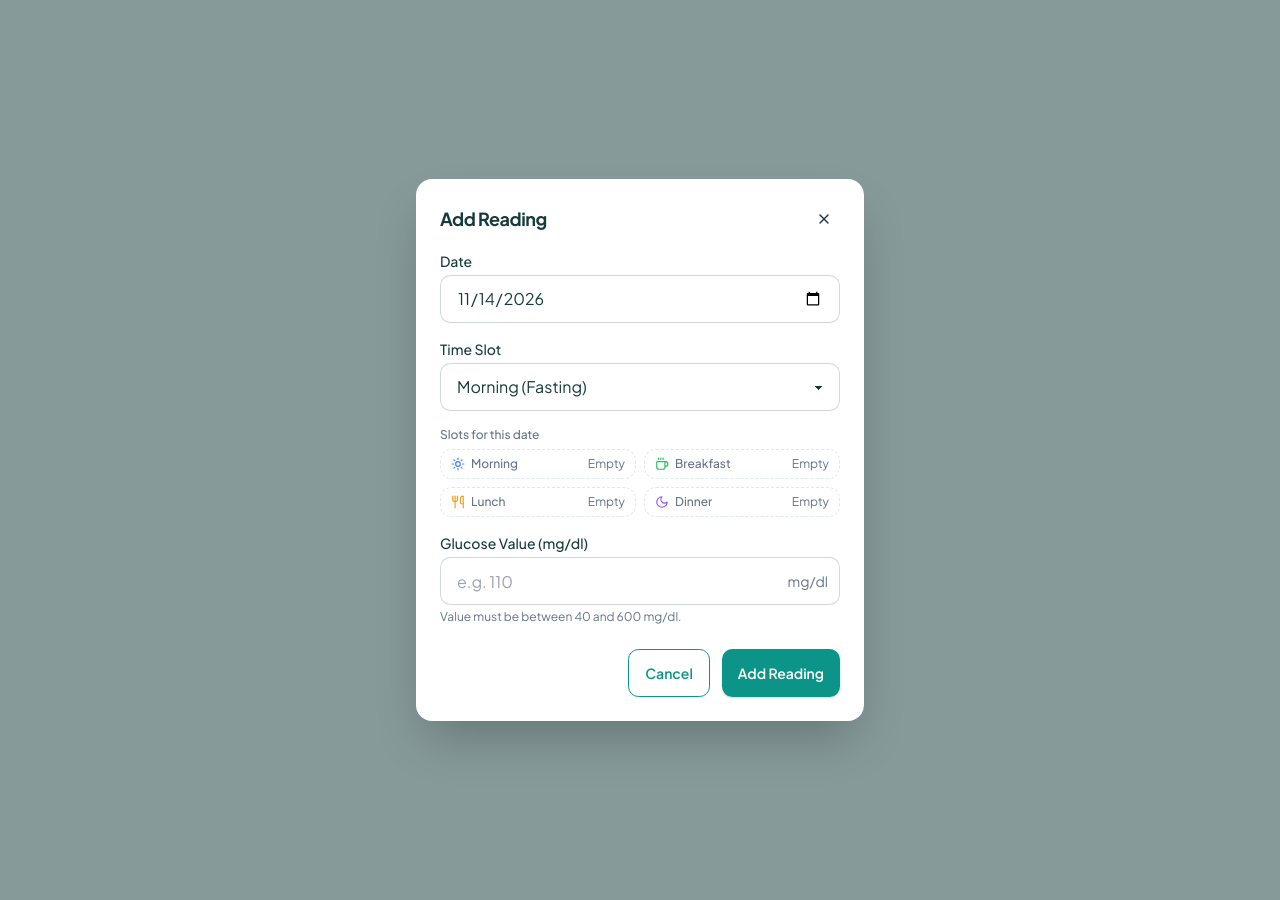
ReadingFormModal › rejects invalid value 39
Type "39" into the number field labelled "Glucose Value (mg/dl)" at (640, 581), box [440,557,840,605]
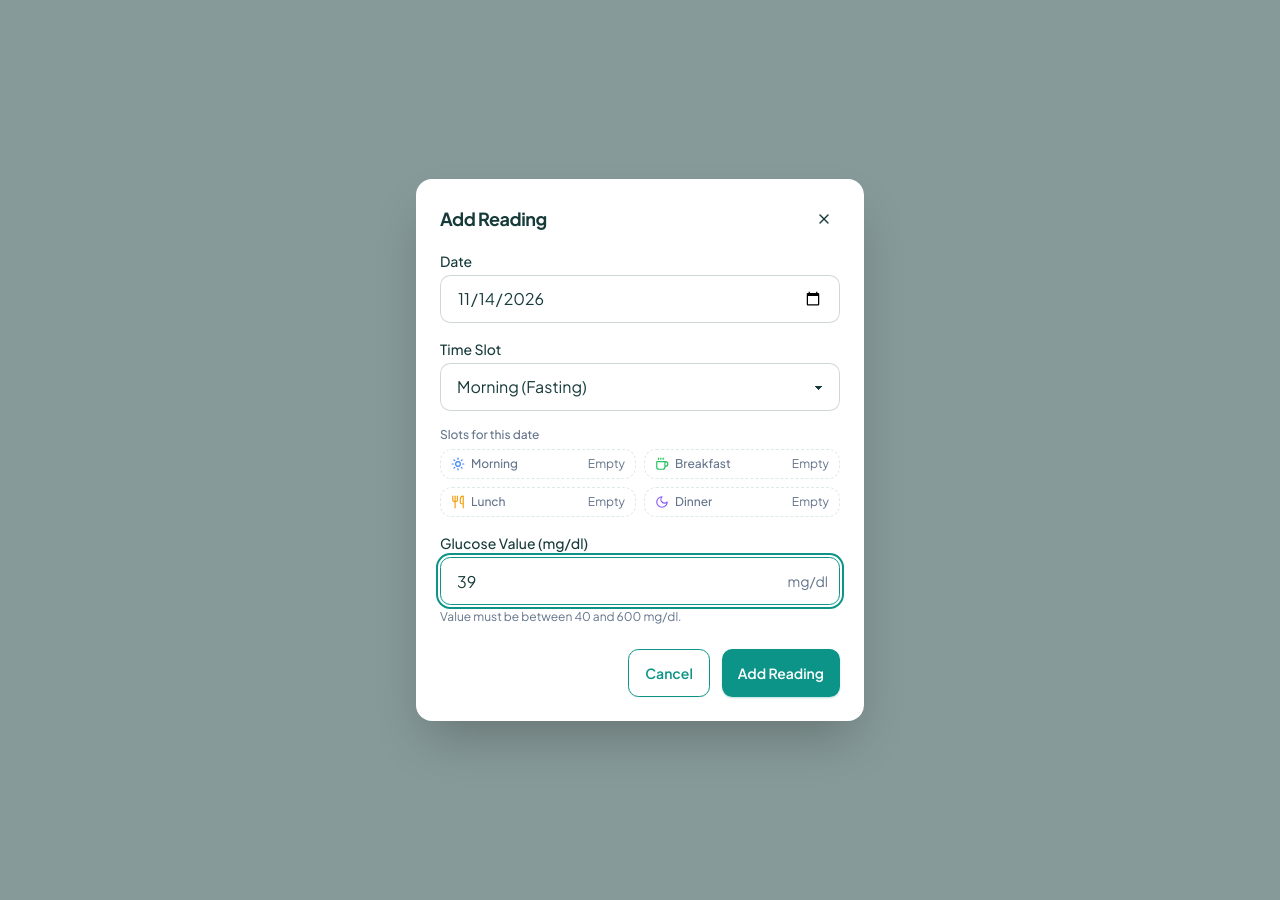
Click the button "Add Reading" at (781, 673), box [722,649,840,697]
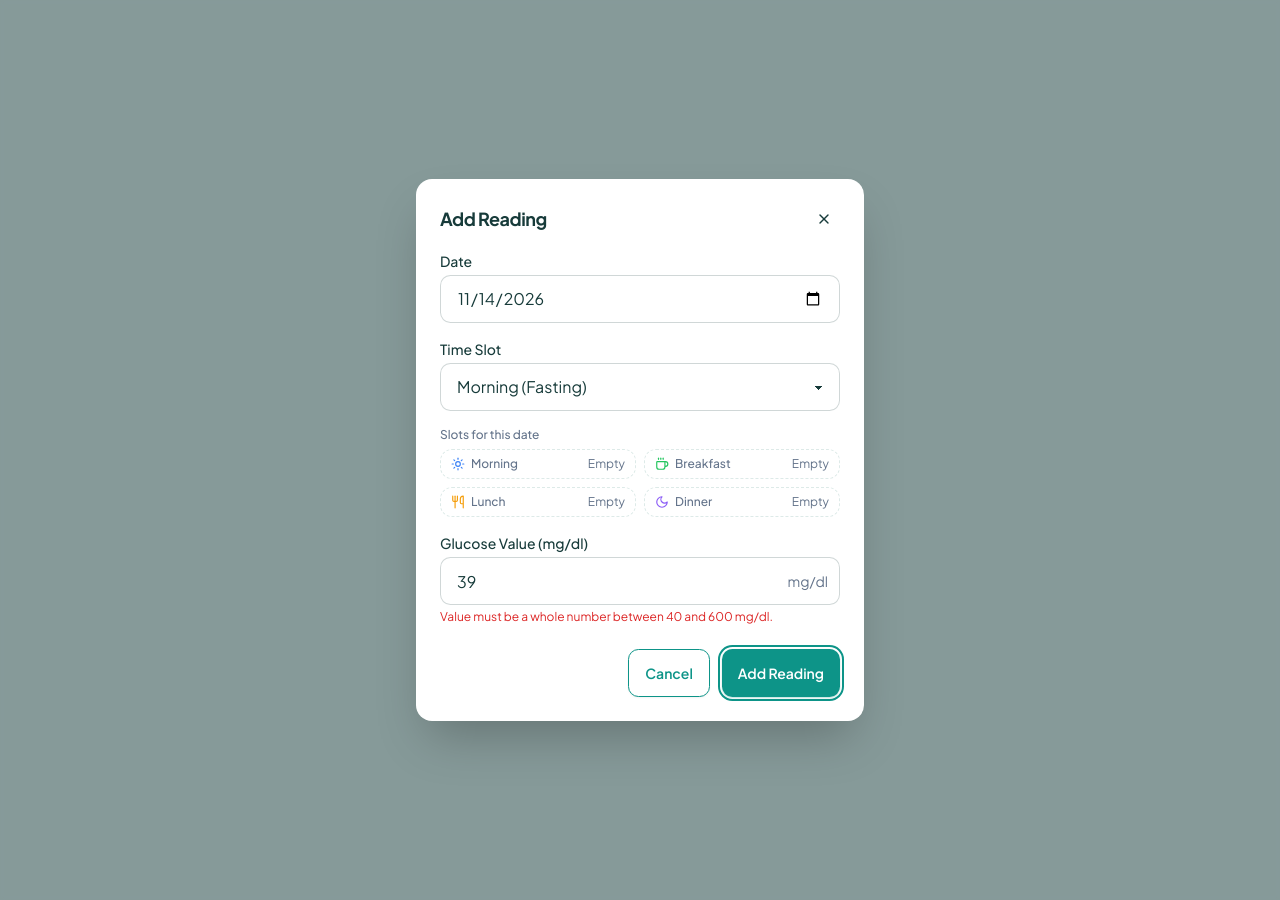
Now the text "Value must be a whole number between 40 and 600 mg/dl." is shown, box [440,609,773,624]
